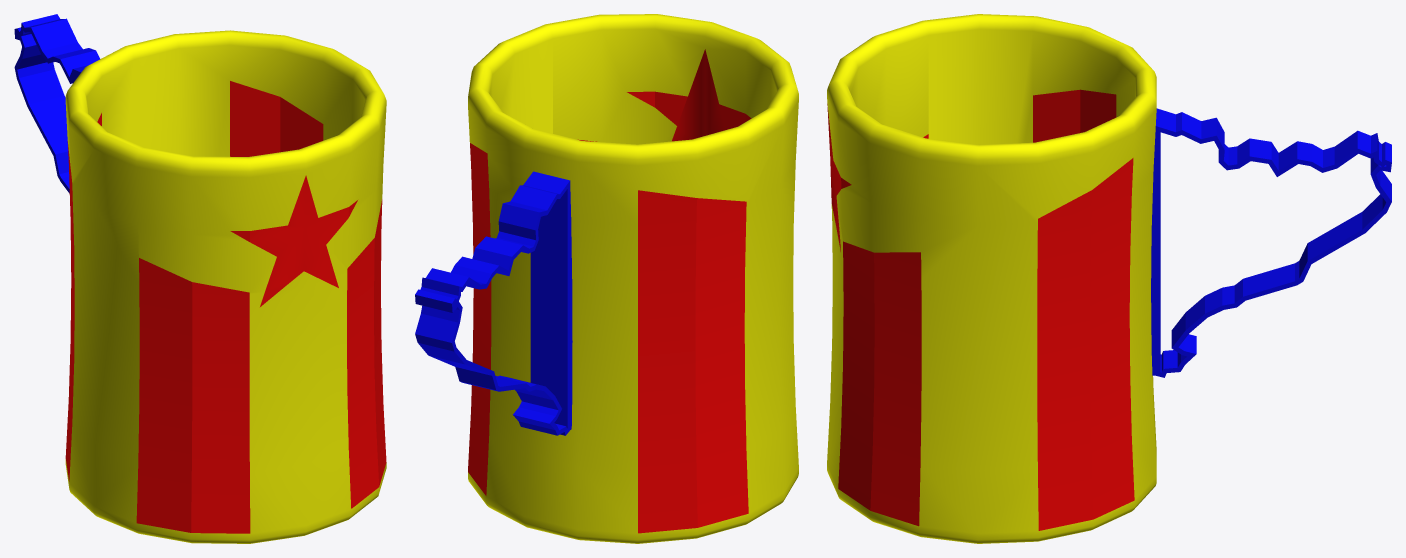
The picture shows the model from 3 angles, left to right: view 1: azimuth 30°, elevation 25°; view 2: azimuth 150°, elevation 25°; view 3: azimuth 270°, elevation 25°; orthographic projection. The views are drawn at different scales.
Visible parts, largest first — view 1: mesh6_mesh6-geometry, mesh3_mesh3-geometry, mesh4_mesh4-geometry, mesh7_mesh7-geometry, mesh5_mesh5-geometry, mesh2_mesh2-geometry, mesh1_mesh1-geometry; view 2: mesh6_mesh6-geometry, mesh1_mesh1-geometry, mesh7_mesh7-geometry, mesh2_mesh2-geometry, mesh5_mesh5-geometry; view 3: mesh6_mesh6-geometry, mesh2_mesh2-geometry, mesh4_mesh4-geometry, mesh7_mesh7-geometry, mesh1_mesh1-geometry, mesh5_mesh5-geometry.
Boxes of the visible parts, <box> form: mesh6_mesh6-geometry: <box>65,30,386,543</box>; mesh3_mesh3-geometry: <box>136,258,250,533</box>; mesh4_mesh4-geometry: <box>347,199,386,508</box>; mesh7_mesh7-geometry: <box>14,14,99,193</box>; mesh5_mesh5-geometry: <box>230,175,357,306</box>; mesh2_mesh2-geometry: <box>230,81,323,156</box>; mesh1_mesh1-geometry: <box>65,113,101,481</box>; mesh6_mesh6-geometry: <box>468,14,798,543</box>; mesh1_mesh1-geometry: <box>638,190,748,533</box>; mesh7_mesh7-geometry: <box>415,171,572,435</box>; mesh2_mesh2-geometry: <box>468,143,491,495</box>; mesh5_mesh5-geometry: <box>627,49,751,141</box>; mesh6_mesh6-geometry: <box>827,14,1156,543</box>; mesh2_mesh2-geometry: <box>1037,158,1134,530</box>; mesh4_mesh4-geometry: <box>838,241,921,526</box>; mesh7_mesh7-geometry: <box>1151,108,1391,377</box>; mesh1_mesh1-geometry: <box>1033,89,1116,142</box>; mesh5_mesh5-geometry: <box>827,104,851,251</box>.
Bounding box in the file's own units: 0.4207 × 0.5546 × 0.7179.
